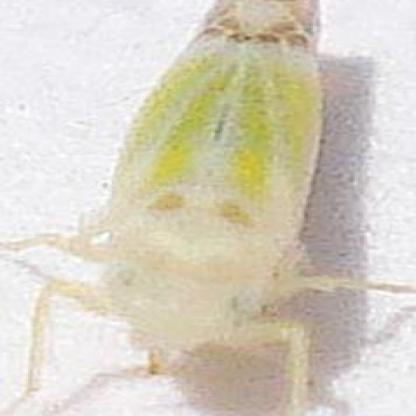green-leafhopper: (48, 0, 359, 386)
